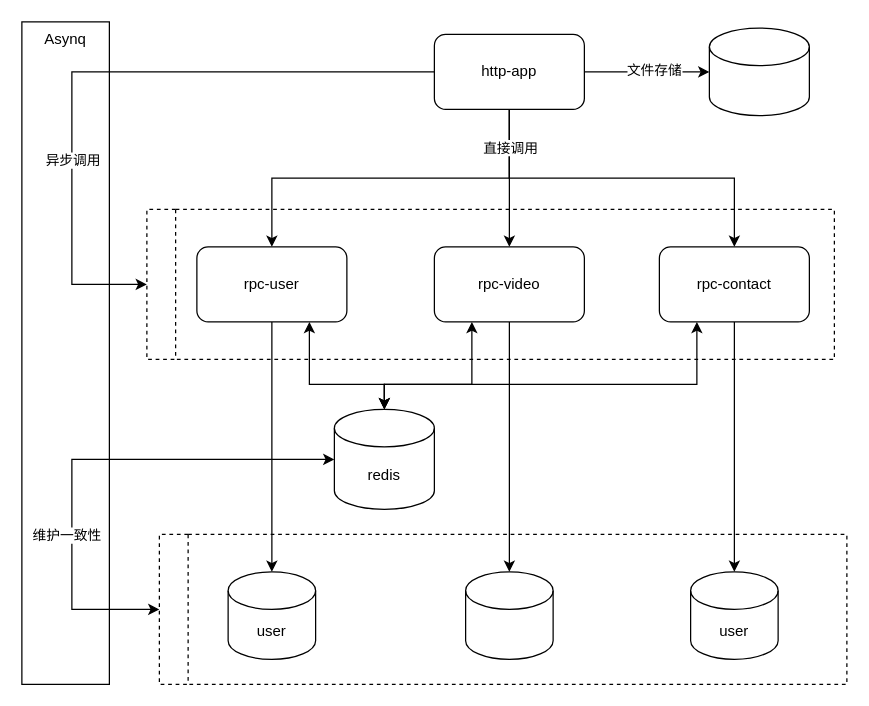
Some shapes in this 869 by 706 pixel diagram are drawn without their labels. The box of each missing label's shape, as (x1, y1, x2, y2) in pixels:
mysql: (158, 533, 847, 684)
OSS: (708, 27, 809, 116)
rpc服务: (146, 208, 834, 359)
video: (464, 571, 553, 659)
